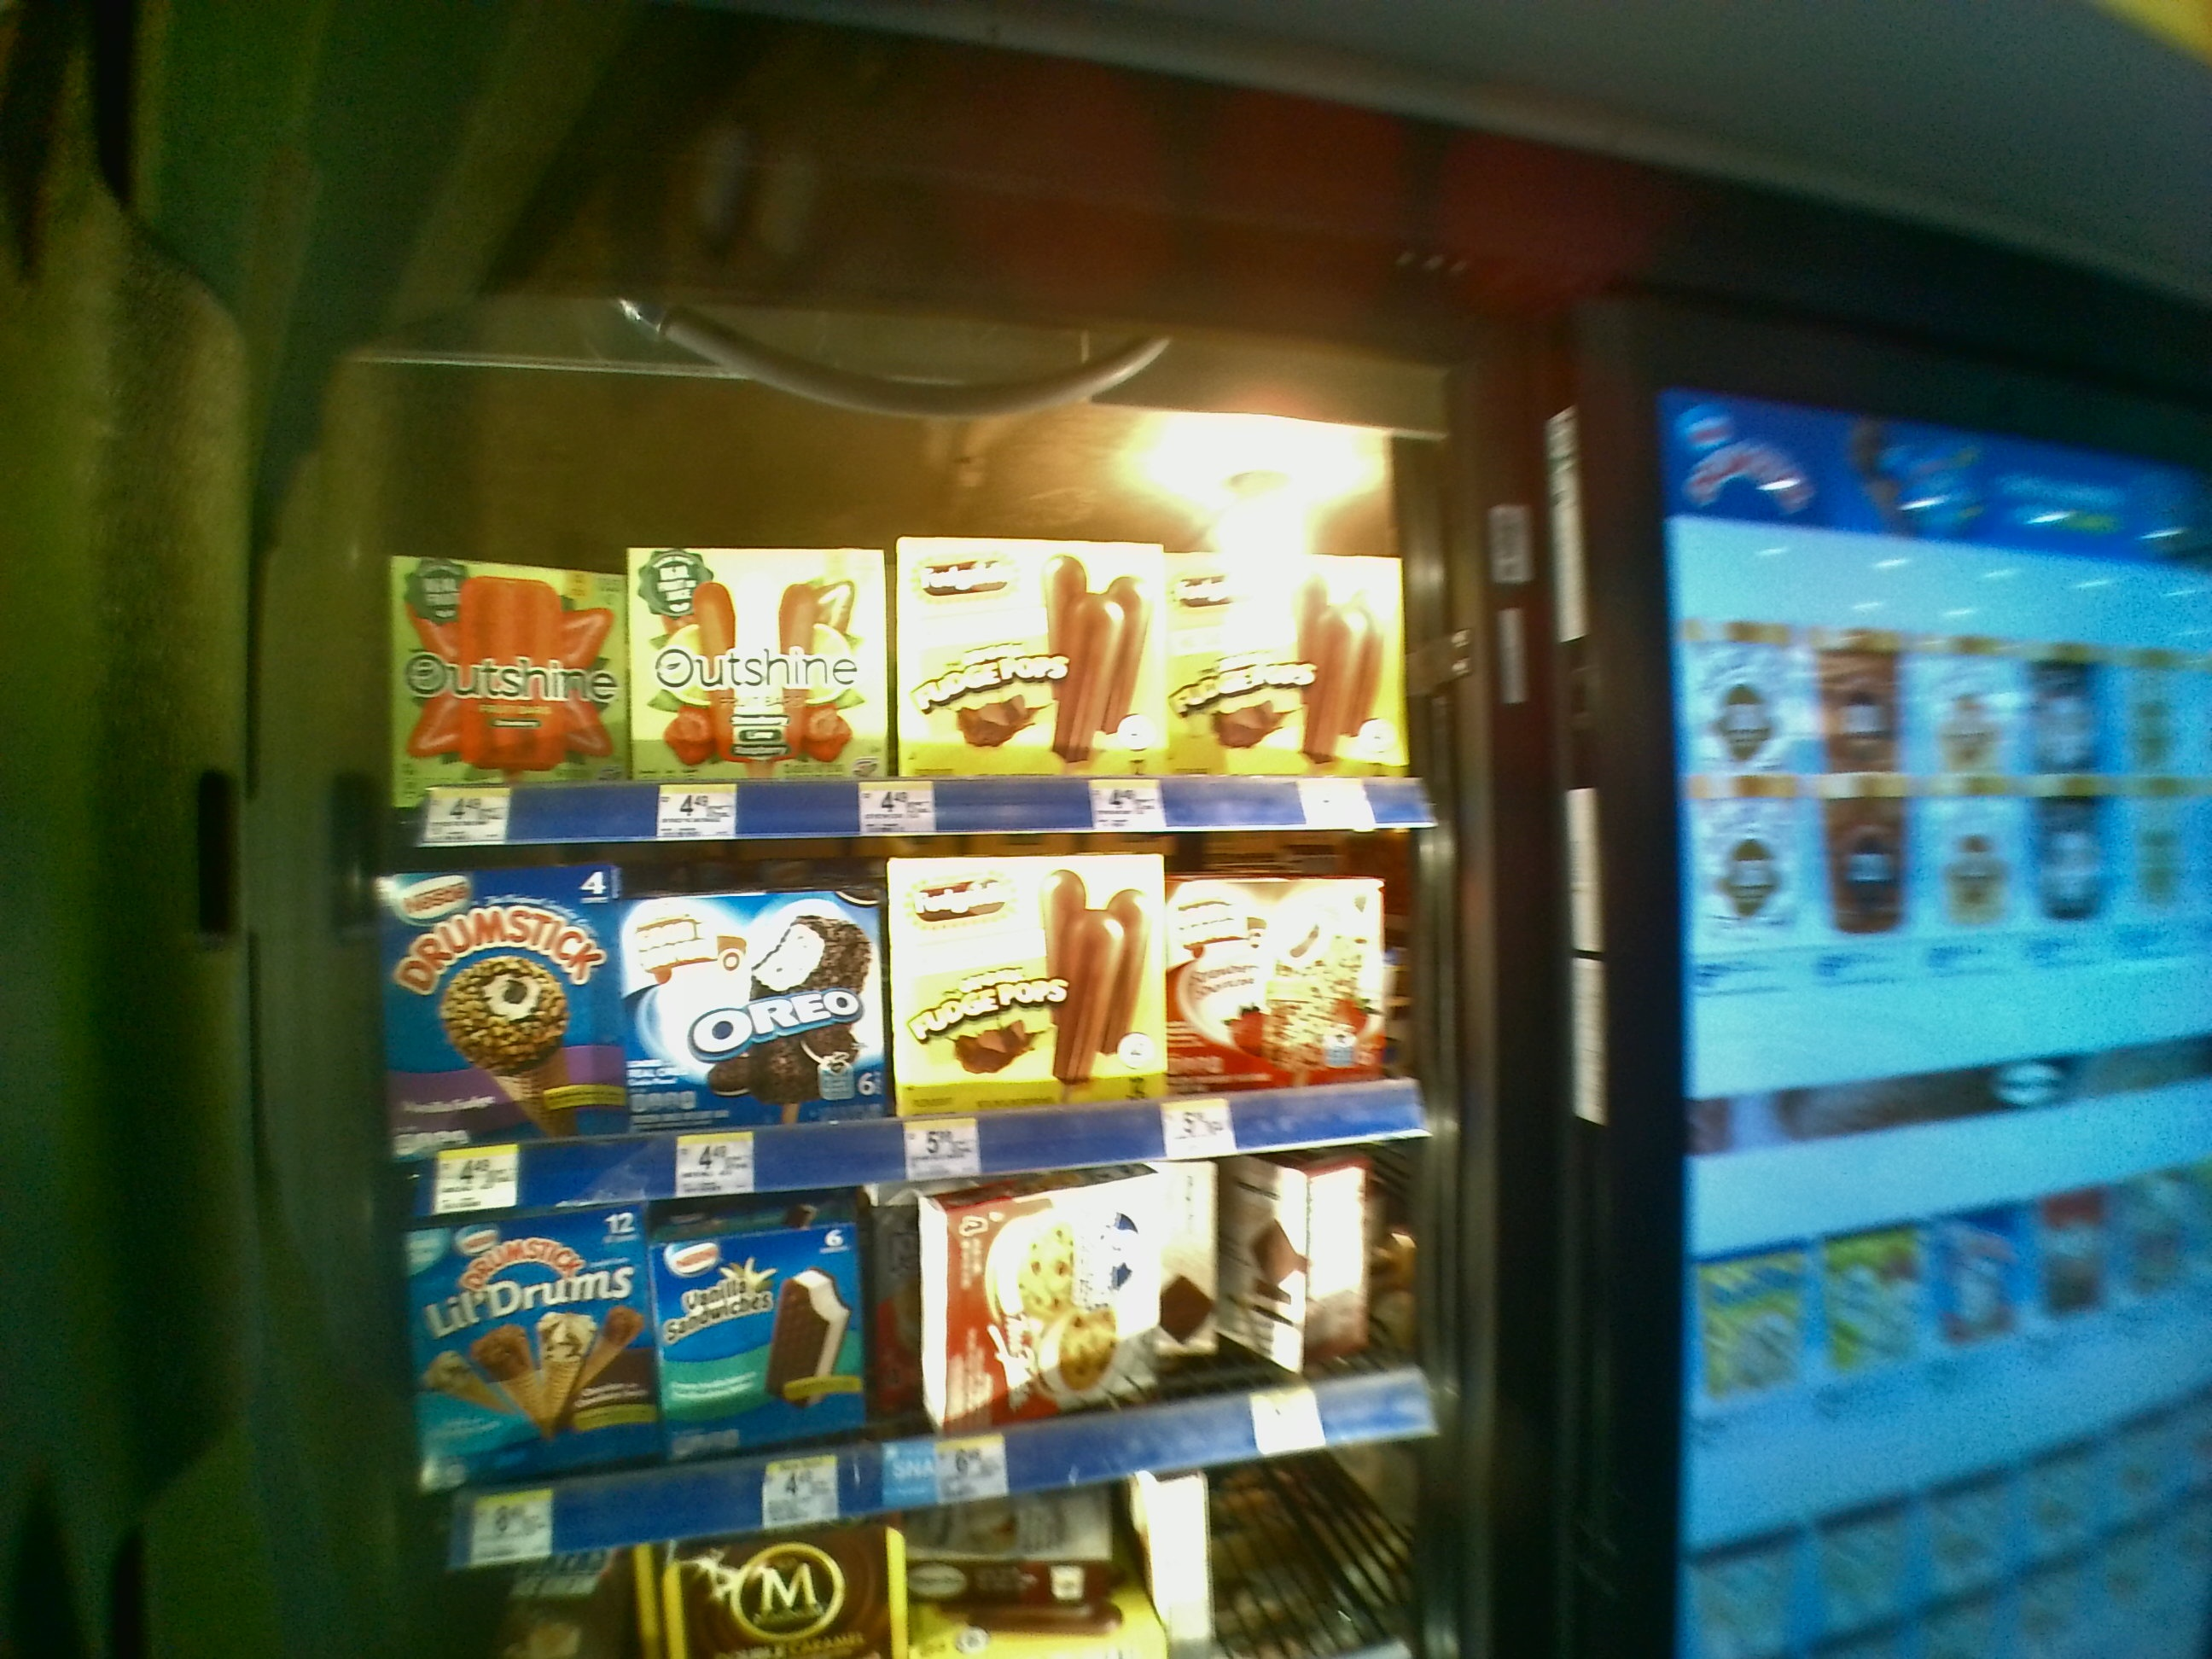shelf: (380, 481, 1418, 843), (380, 864, 1418, 1208)
